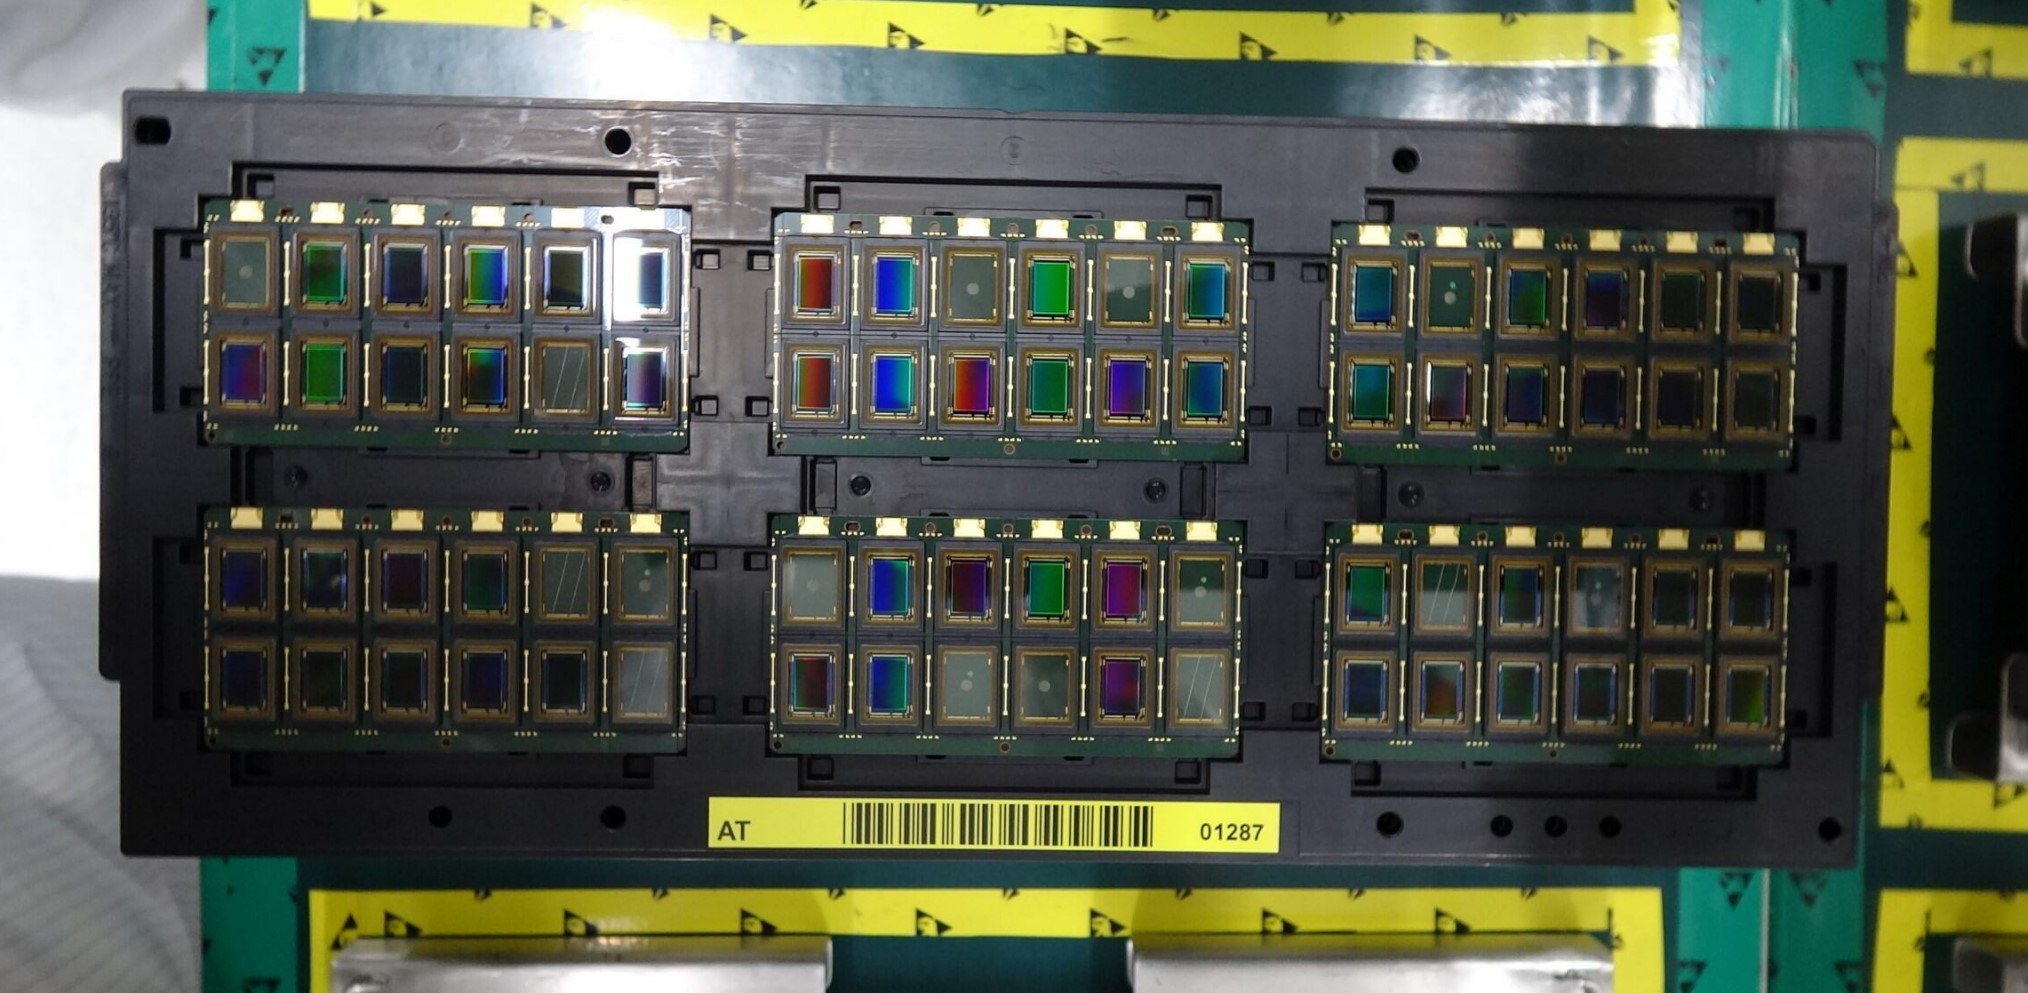Bad_mark_from_BMS_mold: (607, 637, 675, 724), (530, 334, 598, 422), (1412, 550, 1477, 634), (533, 538, 598, 622), (1167, 646, 1229, 727)
Bad_mark_from_Maker: (1095, 240, 1163, 336), (210, 224, 279, 314), (936, 242, 1008, 328), (1009, 643, 1080, 728), (607, 539, 676, 625), (779, 540, 845, 628), (1168, 546, 1234, 634), (1418, 250, 1481, 337), (935, 643, 998, 729), (1566, 553, 1628, 634)
